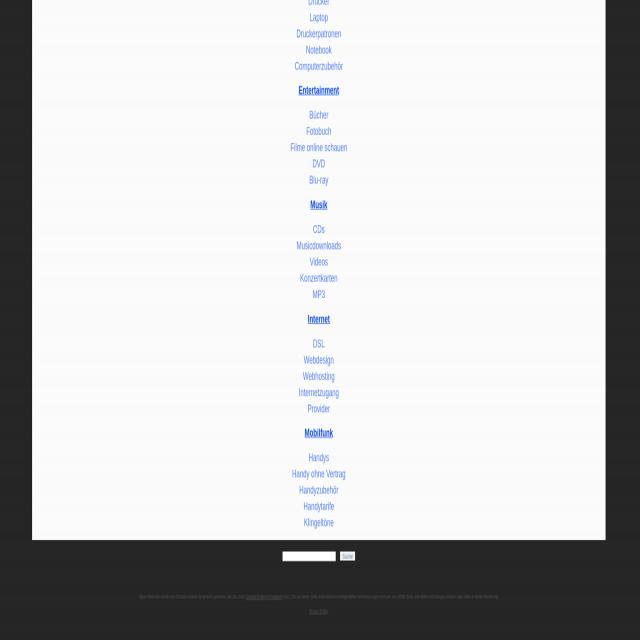button: (340, 552, 355, 562)
field: (282, 552, 336, 562)
